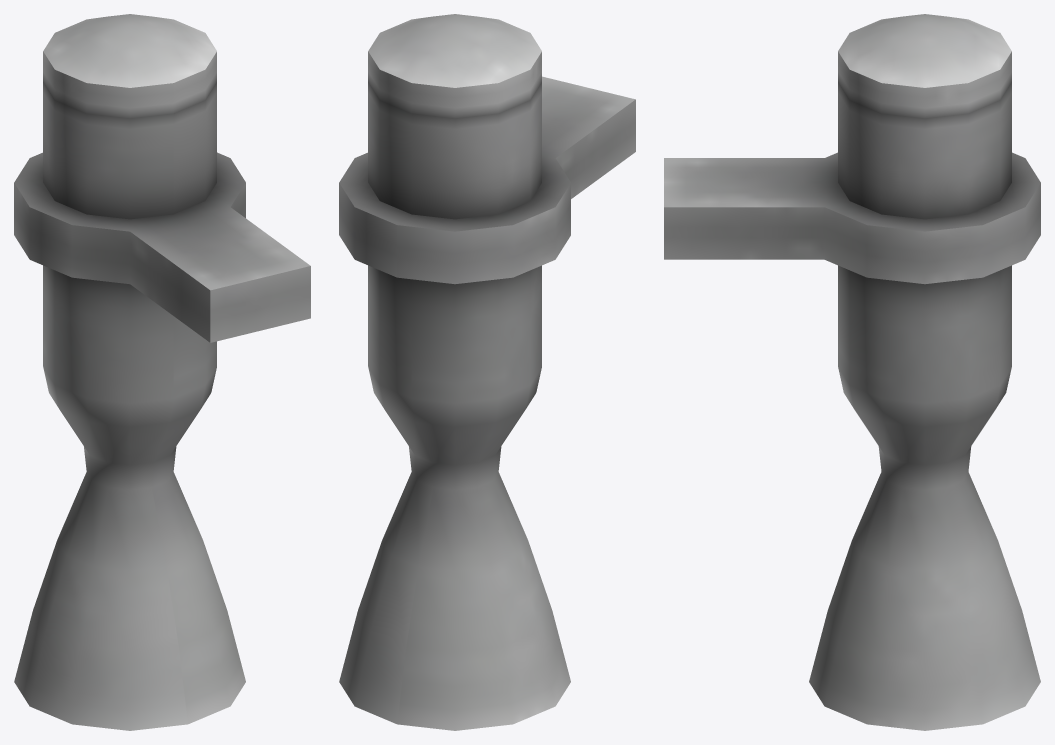
Rendered from lepus_rocket_motor_srf_1.obj.
The picture shows the model from 3 angles, left to right: view 1: azimuth 30°, elevation 25°; view 2: azimuth 150°, elevation 25°; view 3: azimuth 270°, elevation 25°; orthographic projection.
Parts seen in each view (by area): view 1: lepus_rocket_motor_srf_1; view 2: lepus_rocket_motor_srf_1; view 3: lepus_rocket_motor_srf_1.
Part boxes in pixels (box(x1,y1,x2,y2)): lepus_rocket_motor_srf_1: box(14, 14, 310, 730); lepus_rocket_motor_srf_1: box(339, 14, 635, 730); lepus_rocket_motor_srf_1: box(664, 14, 1040, 730).
Bounding box in the file's own units: 0.1 × 0.3125 × 0.1625.
